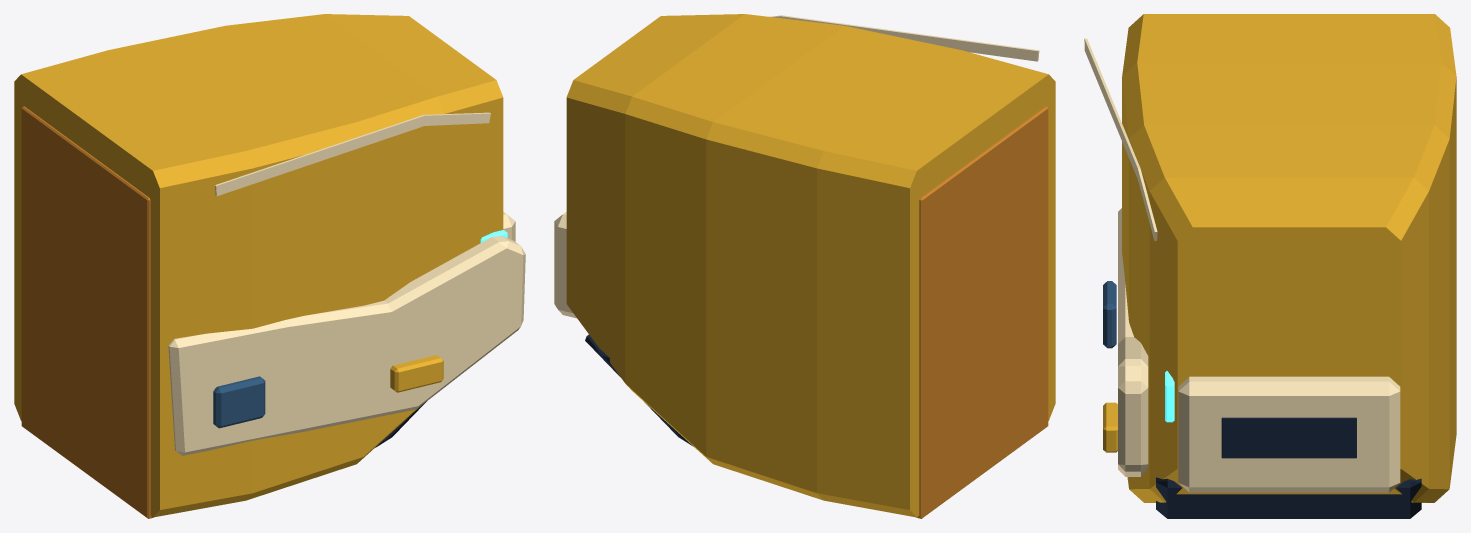
The model's file is armor.glb.
3 views of the same model, side by side, from view 1: azimuth 30°, elevation 25°; view 2: azimuth 150°, elevation 25°; view 3: azimuth 270°, elevation 25° (orthographic). The views are drawn at different scales.
Parts seen in each view (by area): view 1: armor__CourierYellow, armor__Ochre, armor__Cream, armor__Cobalt; view 2: armor__CourierYellow, armor__Ochre, armor__Cream; view 3: armor__CourierYellow, armor__Cream, armor__InkNavy, armor__Cobalt, armor__CyanGlow.
Part boxes in pixels (x1,y1,x2,y2): armor__CourierYellow: [14, 14, 503, 517]; armor__Ochre: [21, 106, 153, 518]; armor__Cream: [168, 112, 525, 455]; armor__Cobalt: [213, 376, 265, 428]; armor__CourierYellow: [566, 14, 1055, 517]; armor__Ochre: [916, 106, 1048, 518]; armor__Cream: [554, 15, 1039, 318]; armor__CourierYellow: [1103, 14, 1456, 502]; armor__Cream: [1084, 38, 1400, 492]; armor__InkNavy: [1156, 417, 1421, 518]; armor__Cobalt: [1103, 281, 1116, 348]; armor__CyanGlow: [1165, 371, 1174, 422].
Bounding box in the file's own units: 1.08 × 0.9455 × 0.8123.
